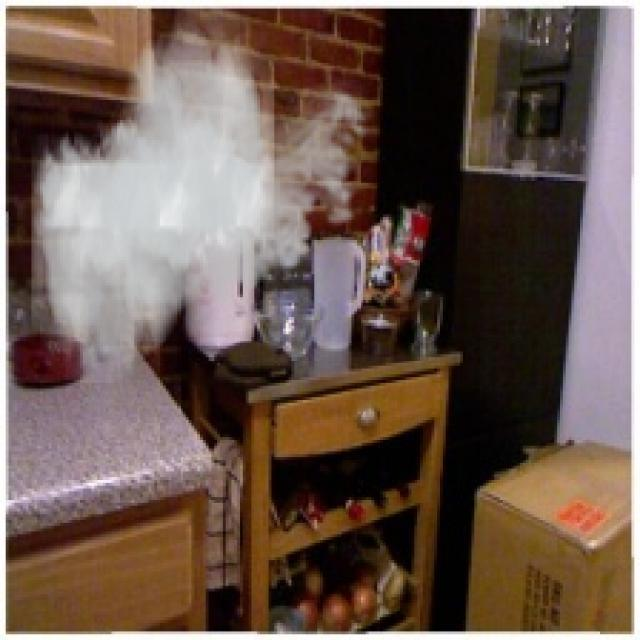Smoke: (32, 8, 377, 383)
